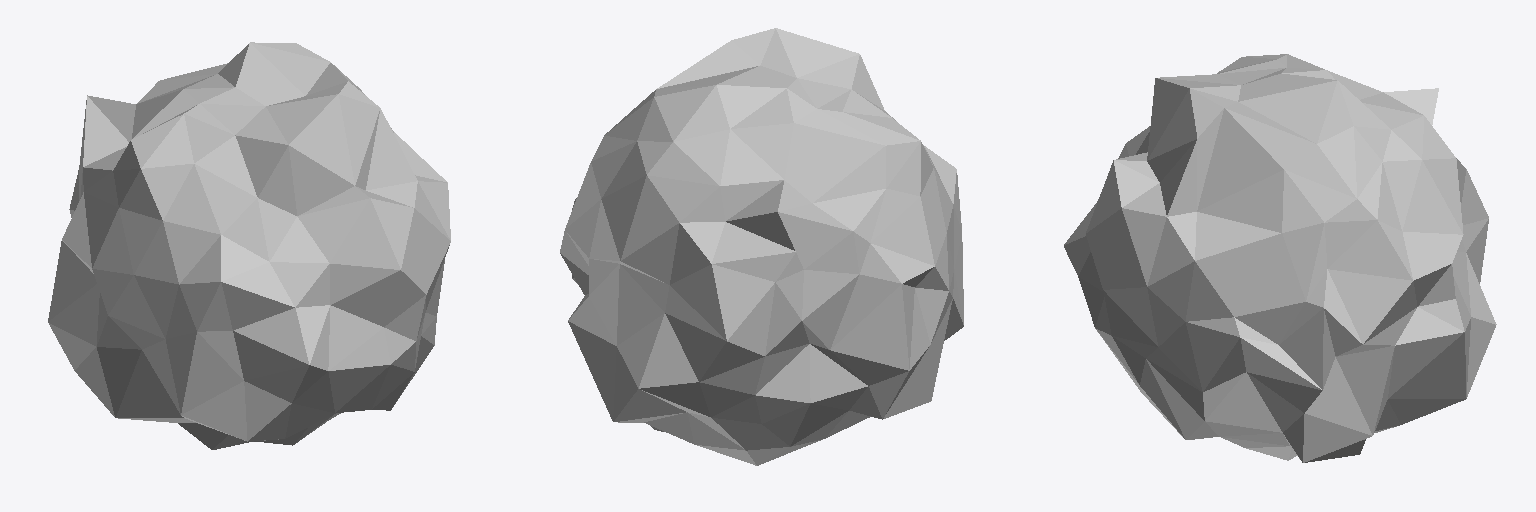
The model's file is fire_000010.obj.
3 renders of one model, left to right at view 1: azimuth 30°, elevation 25°; view 2: azimuth 150°, elevation 25°; view 3: azimuth 270°, elevation 25°, orthographic.
Visible parts, largest first — view 1: Icosphere; view 2: Icosphere; view 3: Icosphere.
Boxes of the visible parts, box(x1,y1,x2,y2) form: Icosphere: box(48, 42, 450, 449); Icosphere: box(560, 28, 963, 465); Icosphere: box(1064, 54, 1496, 462).
Bounding box in the file's own units: 1.53 × 1.56 × 1.64.